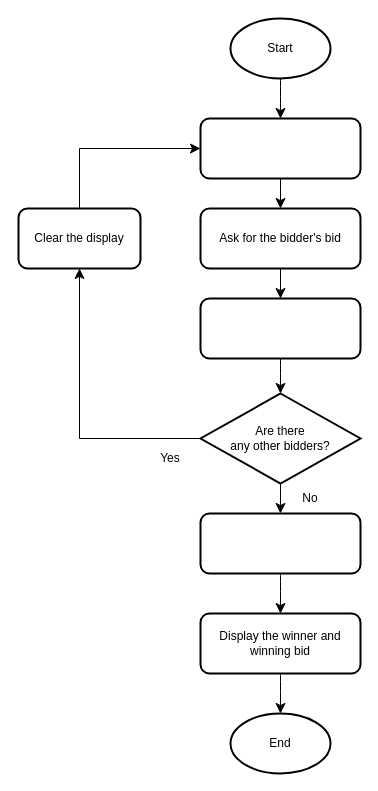
The diagram is 378 pixels wide and 791 high, and some of its shapes have lost their labels. Here are the shapes that lost their labels. From the top down, the box of each, then its label:
(199, 117, 361, 179): Ask for the bidder's name
(199, 297, 361, 359): Store the bidder and bid in the dictionary
(199, 512, 361, 574): Find the highest bid and determine the winner
